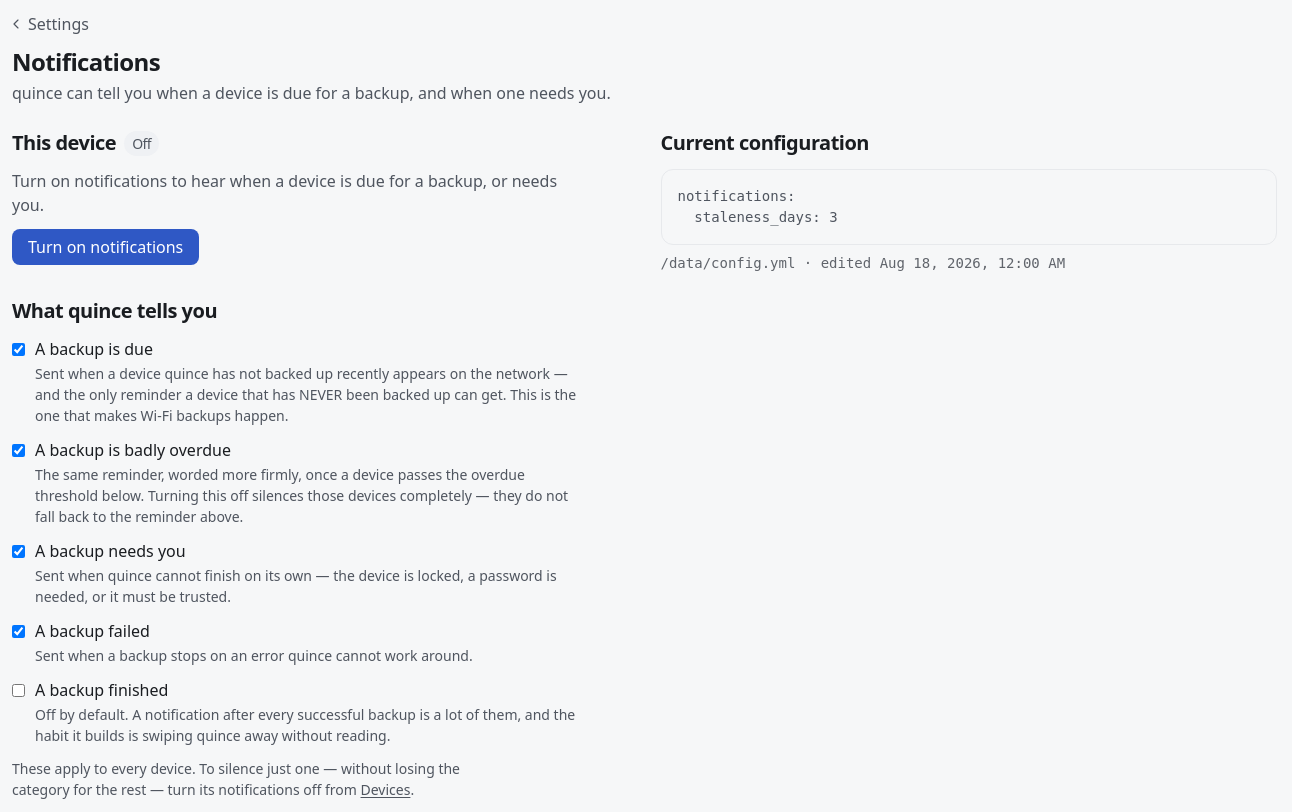
Scenario: turning notifications on, in one page lifetime › shows Send a test notification after Turn on, without a reload
Click the button "Turn on notifications". click: (106, 247)
box: [12,229,199,265]
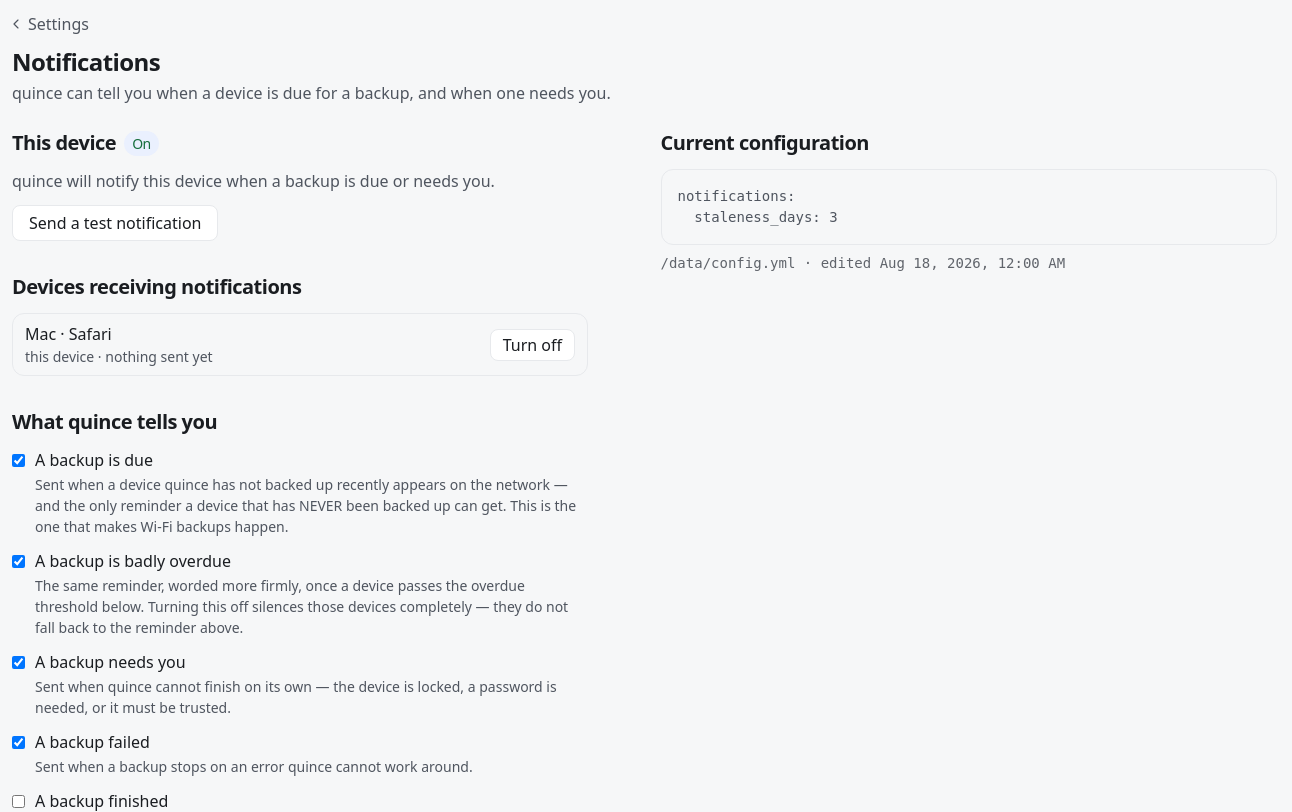
Result: the button "Send a test notification" is shown at [12,205,218,241]
